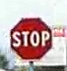stop: (8, 17, 52, 59)
